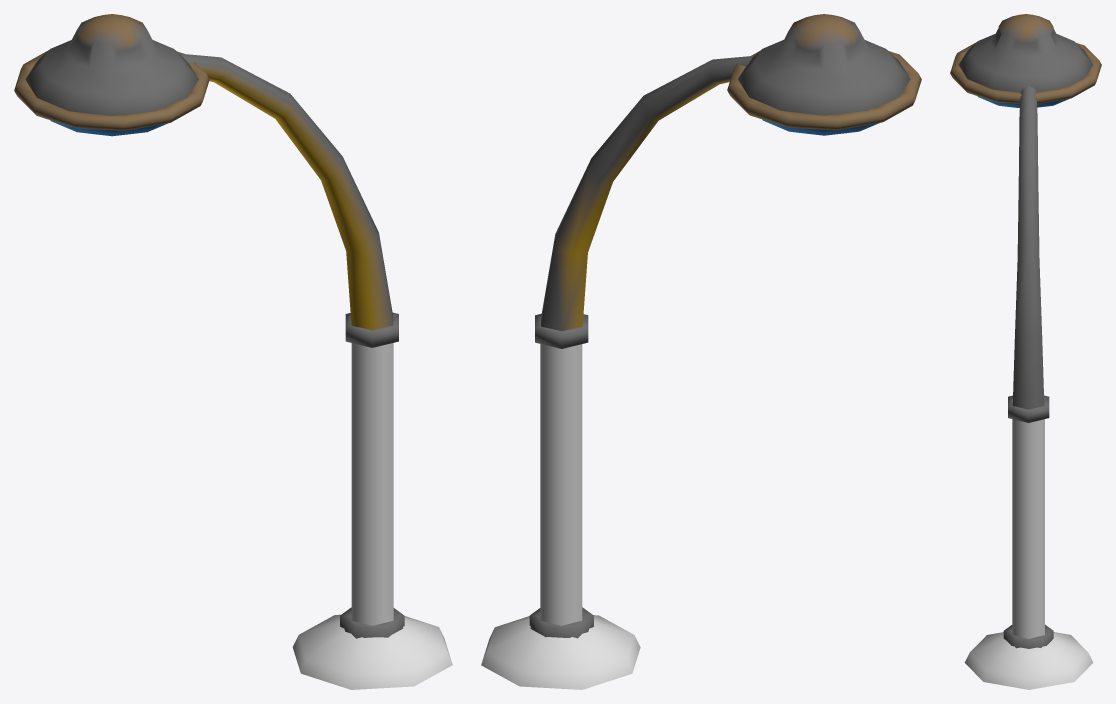
Rendered from lampost_lod2.FBX.
3 views of the same model, side by side, from view 1: azimuth 30°, elevation 25°; view 2: azimuth 150°, elevation 25°; view 3: azimuth 270°, elevation 25° (orthographic). The views are drawn at different scales.
Visible parts, largest first — view 1: sky_lamppost_lod2; view 2: sky_lamppost_lod2; view 3: sky_lamppost_lod2.
Boxes of the visible parts, bbox=[...] form: sky_lamppost_lod2: bbox=[14, 14, 452, 689]; sky_lamppost_lod2: bbox=[481, 14, 921, 689]; sky_lamppost_lod2: bbox=[950, 14, 1101, 689].
Size of the model in its own units: 3.54 by 5.68 by 1.43.
